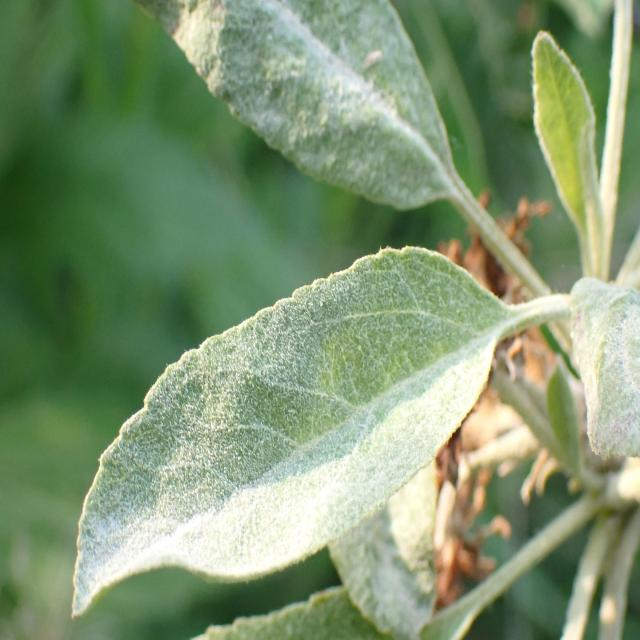Powdery_mildew: (75, 215, 512, 603), (134, 0, 532, 305), (523, 13, 609, 279), (562, 244, 638, 525)
